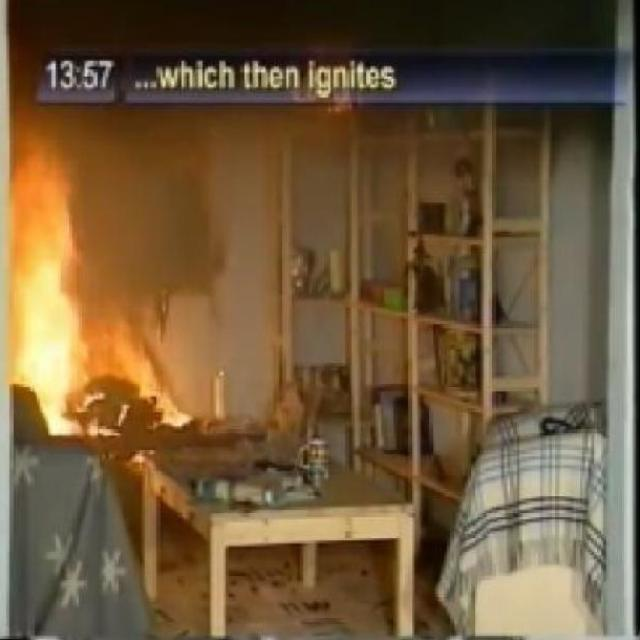smoke: (9, 144, 90, 446), (102, 314, 195, 430)
